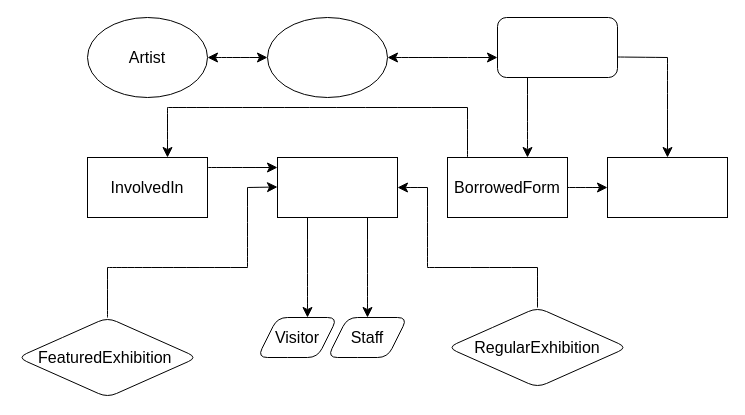
Some shapes in this 745 by 415 pixel diagram are drawn without their labels. The shapes that lost their labels are listed below. From the top down, each one's box as (x1, y1, x2, y2) in pixels, then its label:
(266, 16, 388, 98): ArtObject
(496, 16, 618, 78): Museum
(276, 156, 398, 218): Supervisor
(606, 156, 728, 218): Curator
